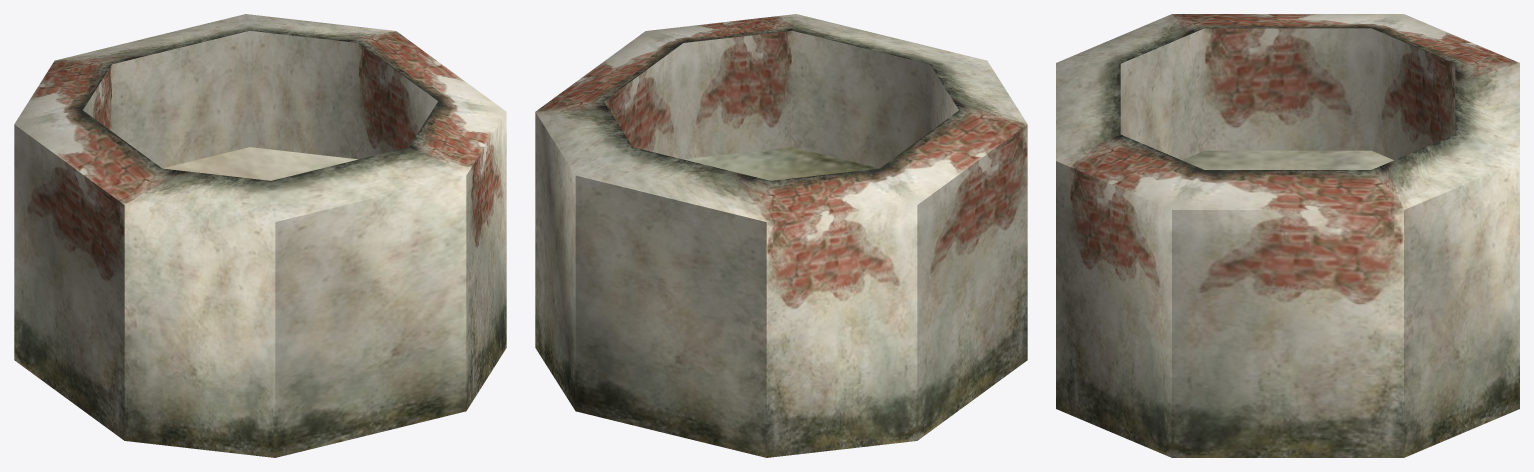
The model's file is WellStucco.fbx.
3 renders of one model, left to right at view 1: azimuth 30°, elevation 25°; view 2: azimuth 150°, elevation 25°; view 3: azimuth 270°, elevation 25°, orthographic. The views are drawn at different scales.
Parts seen in each view (by area): view 1: WellStuccoMesh, polySurface1; view 2: WellStuccoMesh, polySurface1; view 3: WellStuccoMesh, polySurface1.
Part boxes in pixels (x1,y1,x2,y2): WellStuccoMesh: (14,14,506,457); polySurface1: (162,147,358,180); WellStuccoMesh: (535,14,1027,457); polySurface1: (683,147,879,180); WellStuccoMesh: (1056,14,1519,457); polySurface1: (1182,150,1393,169).
Size of the model in its own units: 645 by 400 by 645.
Materials: 1 (1 with a texture image).
